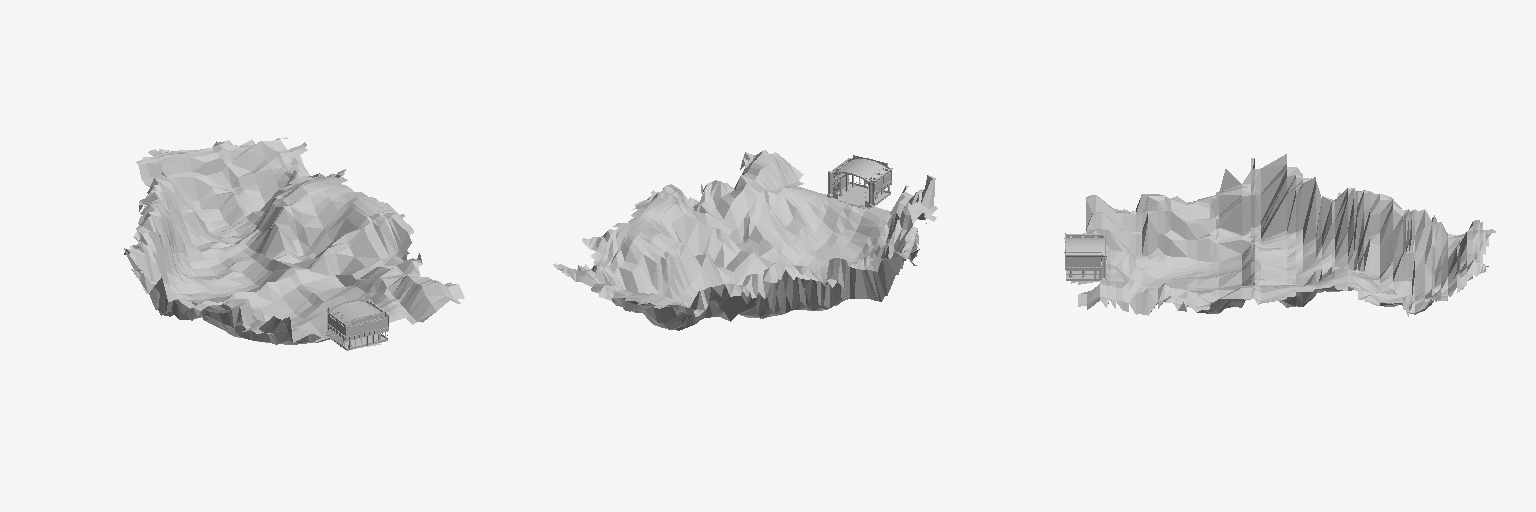
File: lowPolyEnvironement.obj
The picture shows the model from 3 angles: view 1: azimuth 30°, elevation 25°; view 2: azimuth 150°, elevation 25°; view 3: azimuth 270°, elevation 25°; orthographic projection.
Visible parts, largest first — view 1: Terrain_09_50000_Terrain_50000, TEMPLE; view 2: Terrain_09_50000_Terrain_50000, TEMPLE; view 3: Terrain_09_50000_Terrain_50000, TEMPLE.
Part boxes in pixels (left/top/right/bottom): Terrain_09_50000_Terrain_50000: left=124, top=137, right=464, bottom=347; TEMPLE: left=325, top=298, right=388, bottom=350; Terrain_09_50000_Terrain_50000: left=553, top=150, right=937, bottom=330; TEMPLE: left=827, top=155, right=892, bottom=208; Terrain_09_50000_Terrain_50000: left=1071, top=154, right=1495, bottom=316; TEMPLE: left=1064, top=233, right=1108, bottom=280.
Size of the model in its own units: 991 by 268 by 1343.